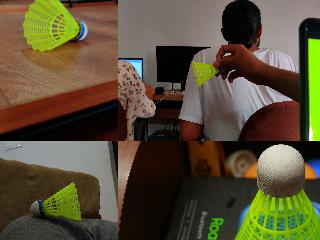shuttlecock: (231, 145, 319, 239), (22, 0, 86, 52), (30, 182, 80, 220), (192, 61, 224, 85)
